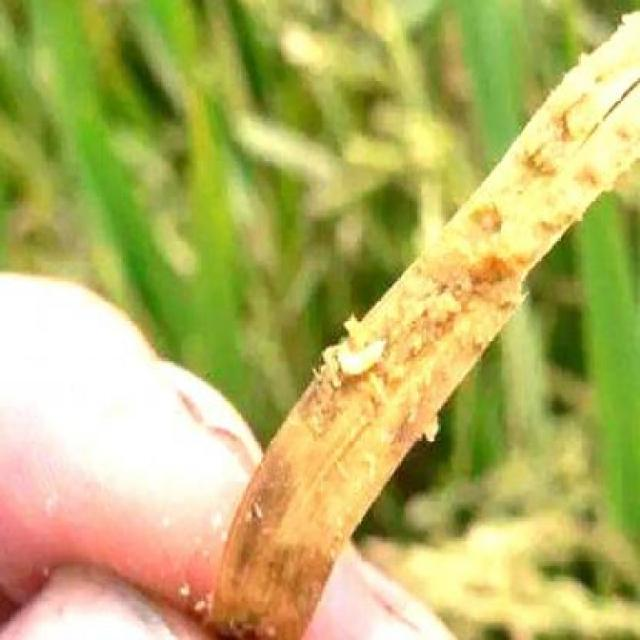whorl-maggot: (335, 334, 397, 378)
